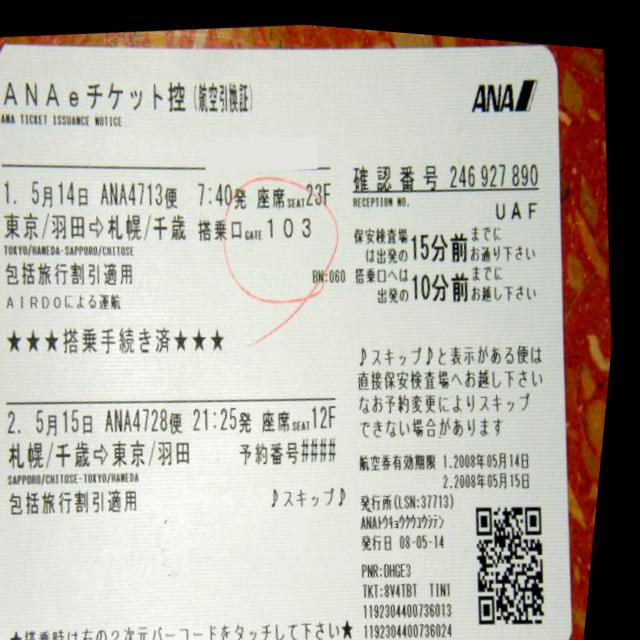qrcode: (477, 491, 565, 621)
